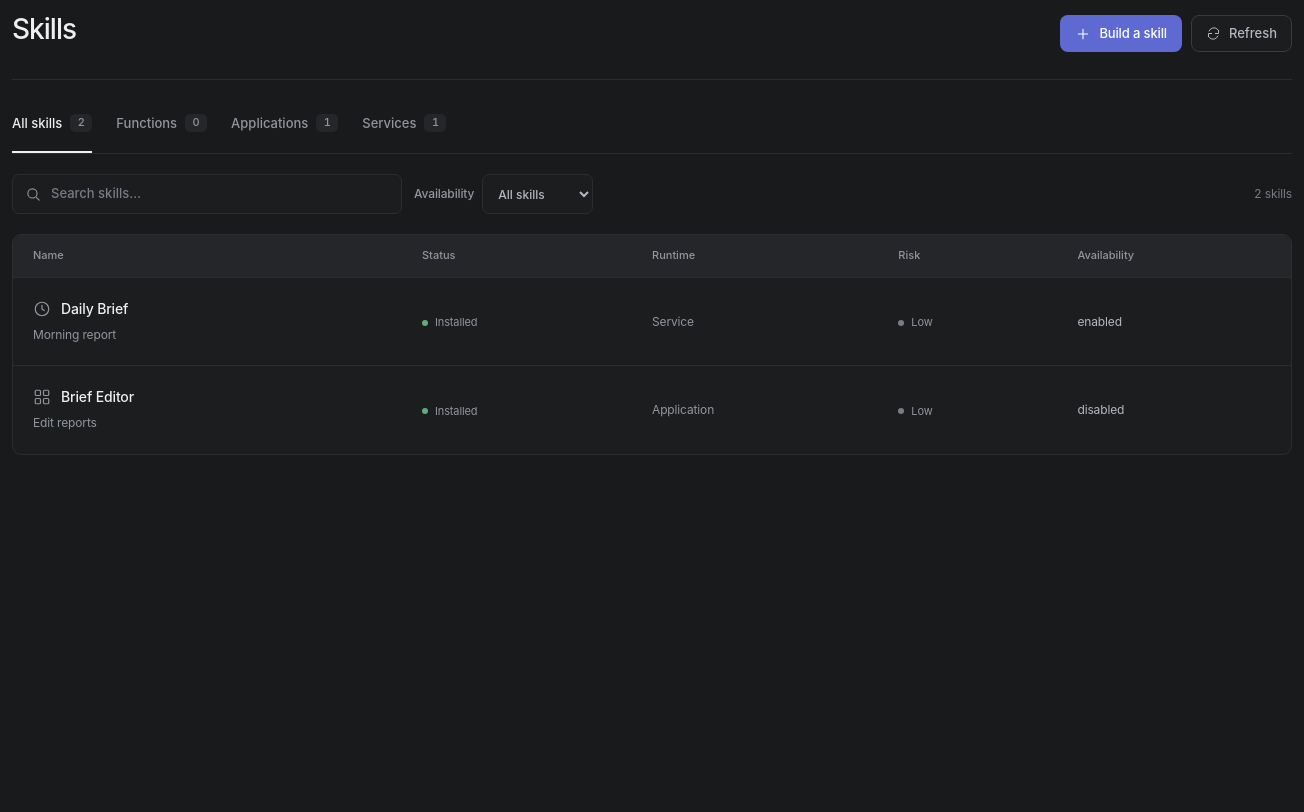
Test: SkillsPage › combines runtime, search, and availability and can clear an empty result
The image size is (1304, 812).
Expected: the link with aria-label "Open Daily Brief skill details" is shown, [13,277,1291,366]
Click the button "Services 1": (404, 130) [362,108,446,153]
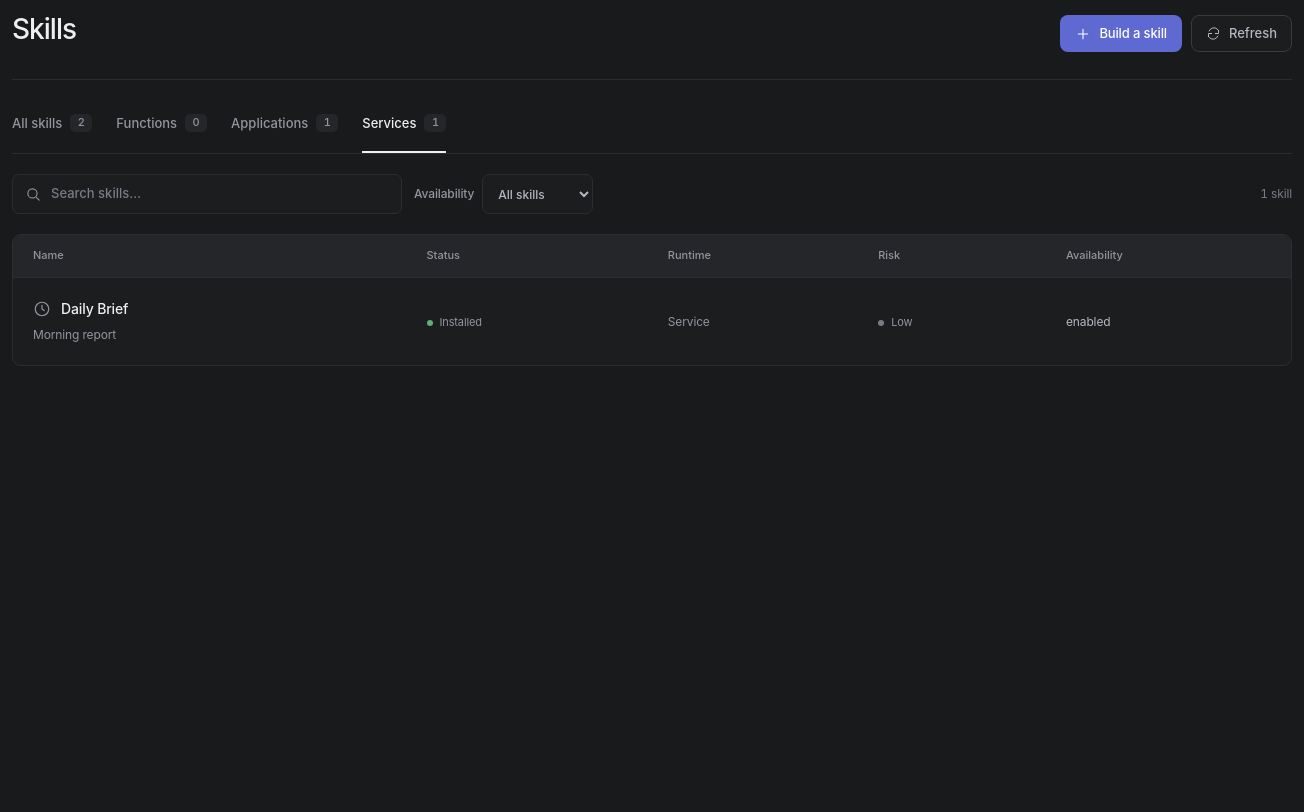
In the search field labelled "Search skills": (220, 194) [51,175,389,213], type "daily brief"
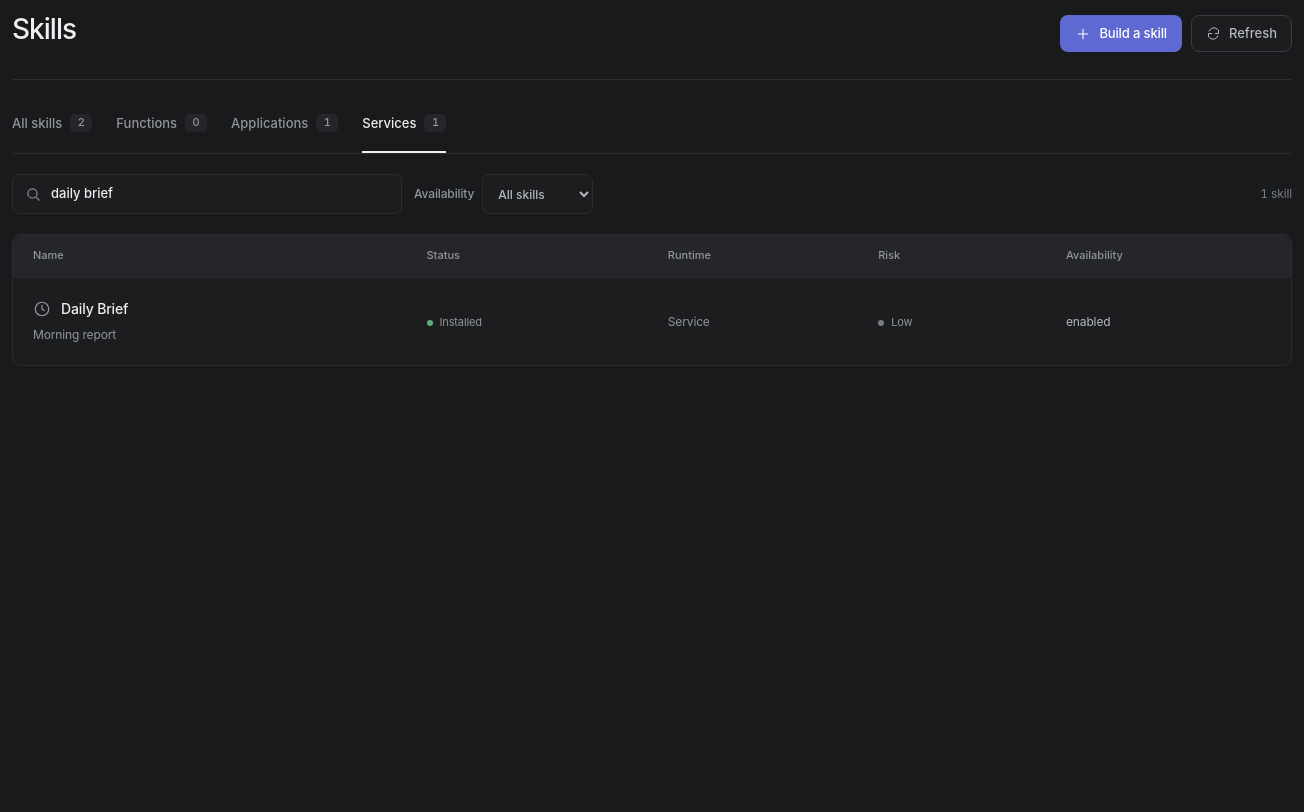
Expected: the link with aria-label "Open Daily Brief skill details" is shown, [13,277,1291,365]
Select "Disabled" in the dropdown labelled "Availability": (538, 194) [482,174,593,214]
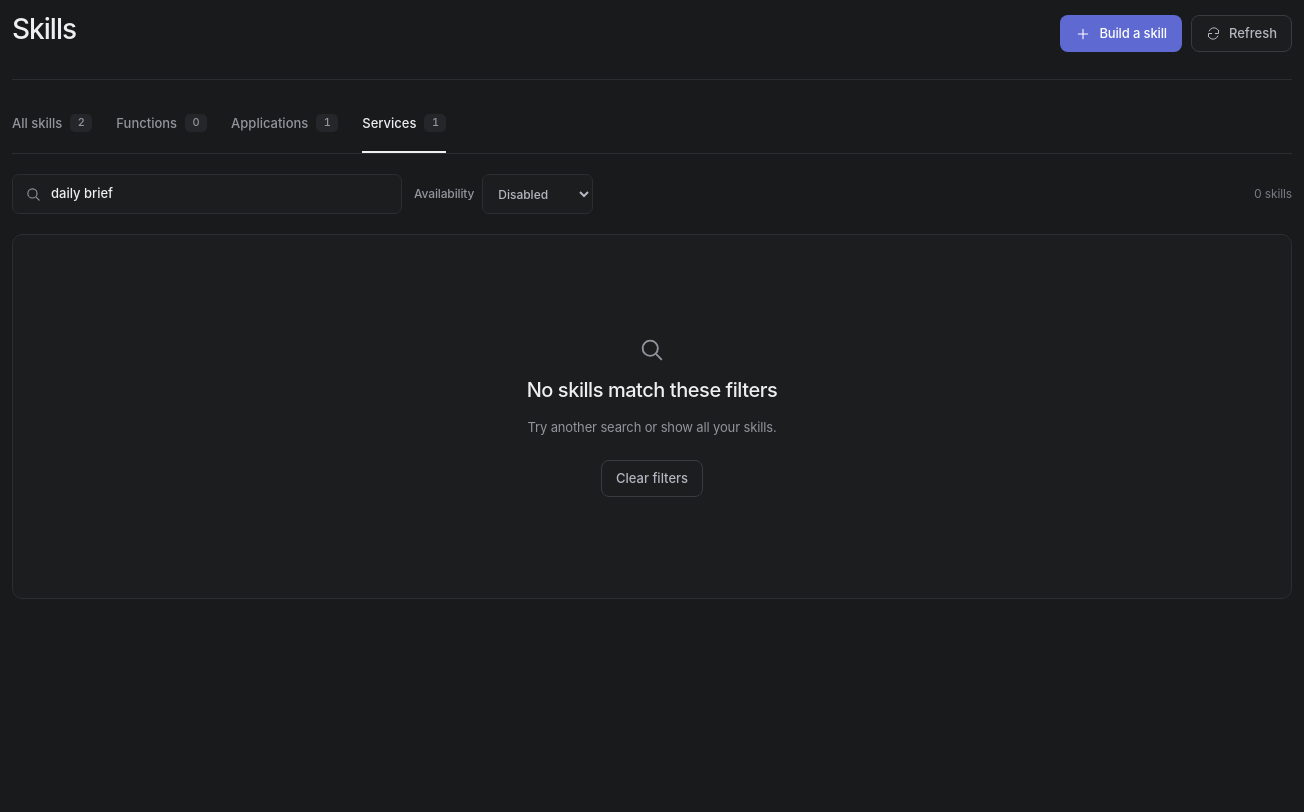
Expected: the heading "No skills match these filters" is shown, [527,376,777,404]
Click the button "Clear filters": (652, 479) [601,460,703,497]
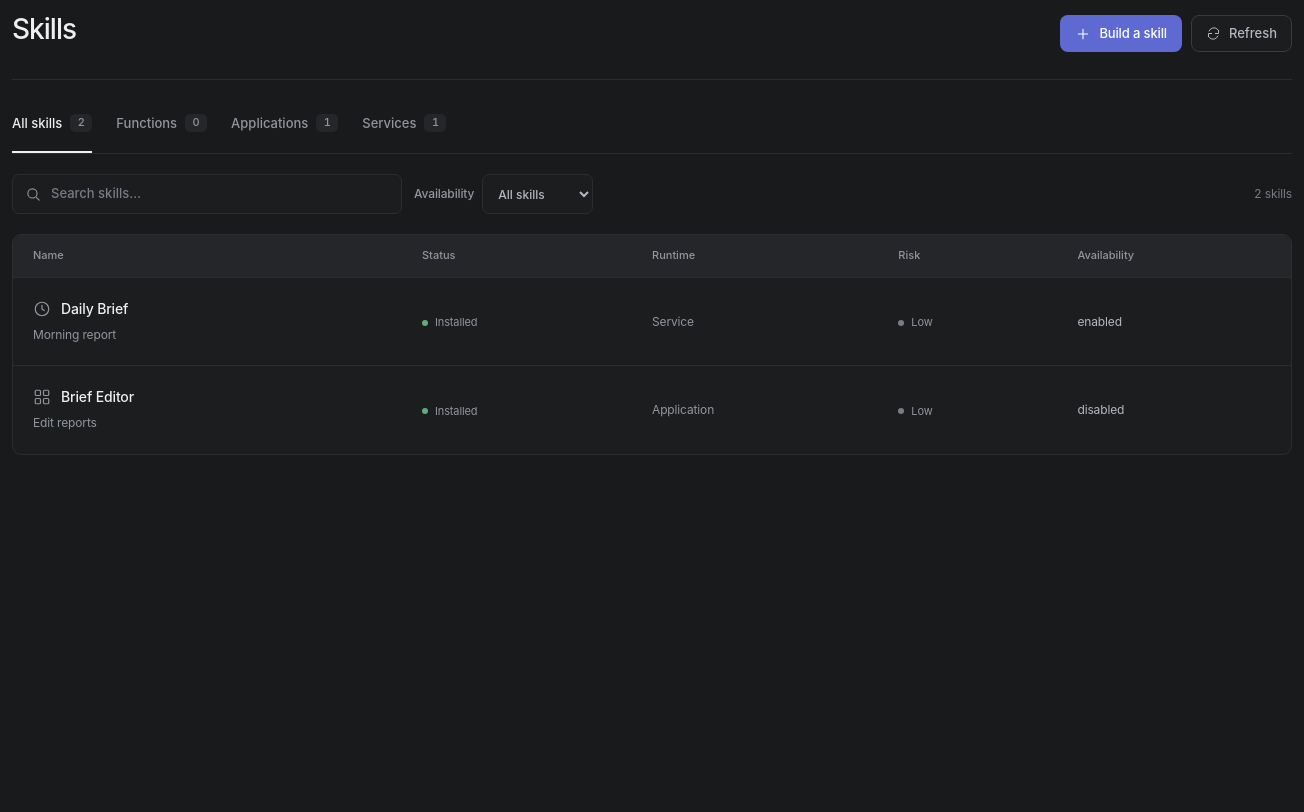
Expected: the link with aria-label "Open Daily Brief skill details" is shown, [13,277,1291,366]
Expected: the link with aria-label "Open Brief Editor skill details" is shown, [13,366,1291,454]
